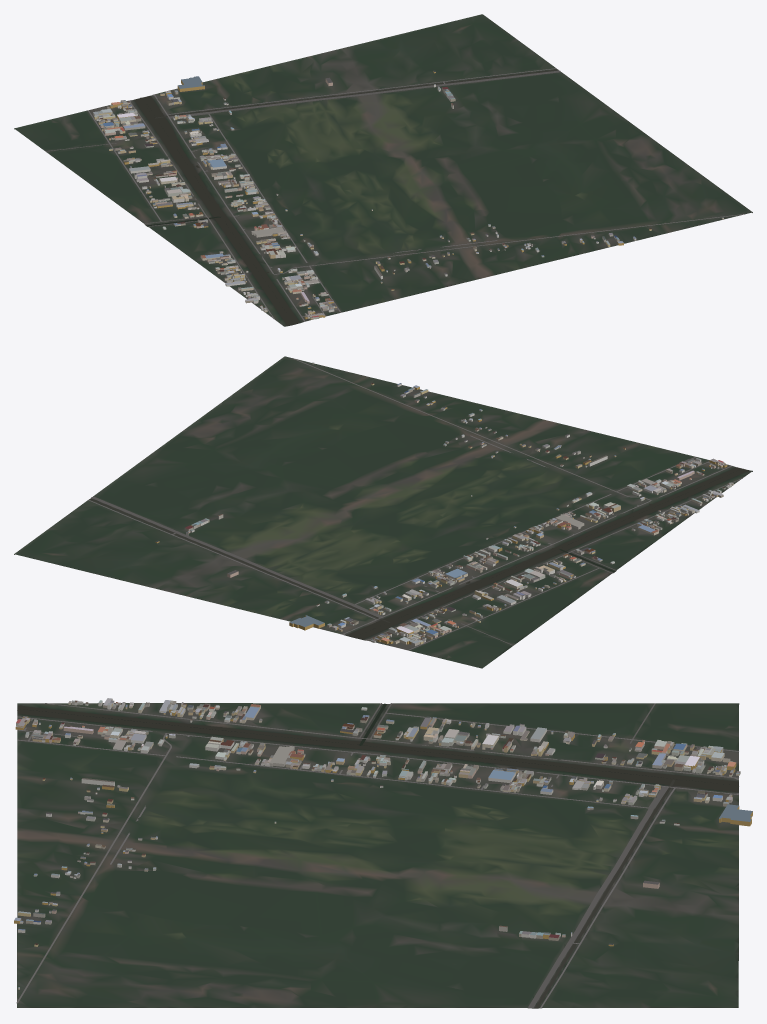
The picture shows the model from 3 angles, top to bottom: view 1: azimuth 30°, elevation 25°; view 2: azimuth 150°, elevation 25°; view 3: azimuth 270°, elevation 25°; orthographic projection. The views are drawn at different scales.
Visible parts, largest first — view 1: ground, buildings, water, roads; view 2: ground, buildings, water, roads; view 3: ground, buildings, water, roads.
Part boxes in pixels (bbox=[...]): ground: bbox=[14, 14, 752, 326]; buildings: bbox=[93, 70, 723, 319]; water: bbox=[134, 69, 558, 325]; roads: bbox=[45, 68, 745, 321]; ground: bbox=[14, 356, 752, 668]; buildings: bbox=[155, 362, 733, 646]; water: bbox=[89, 467, 749, 639]; roads: bbox=[88, 358, 742, 650]; ground: bbox=[17, 703, 739, 1008]; buildings: bbox=[14, 698, 752, 989]; water: bbox=[17, 703, 738, 1008]; roads: bbox=[16, 703, 738, 1008].
Bounding box in the file's own units: 1415 × 15.76 × 1434.
